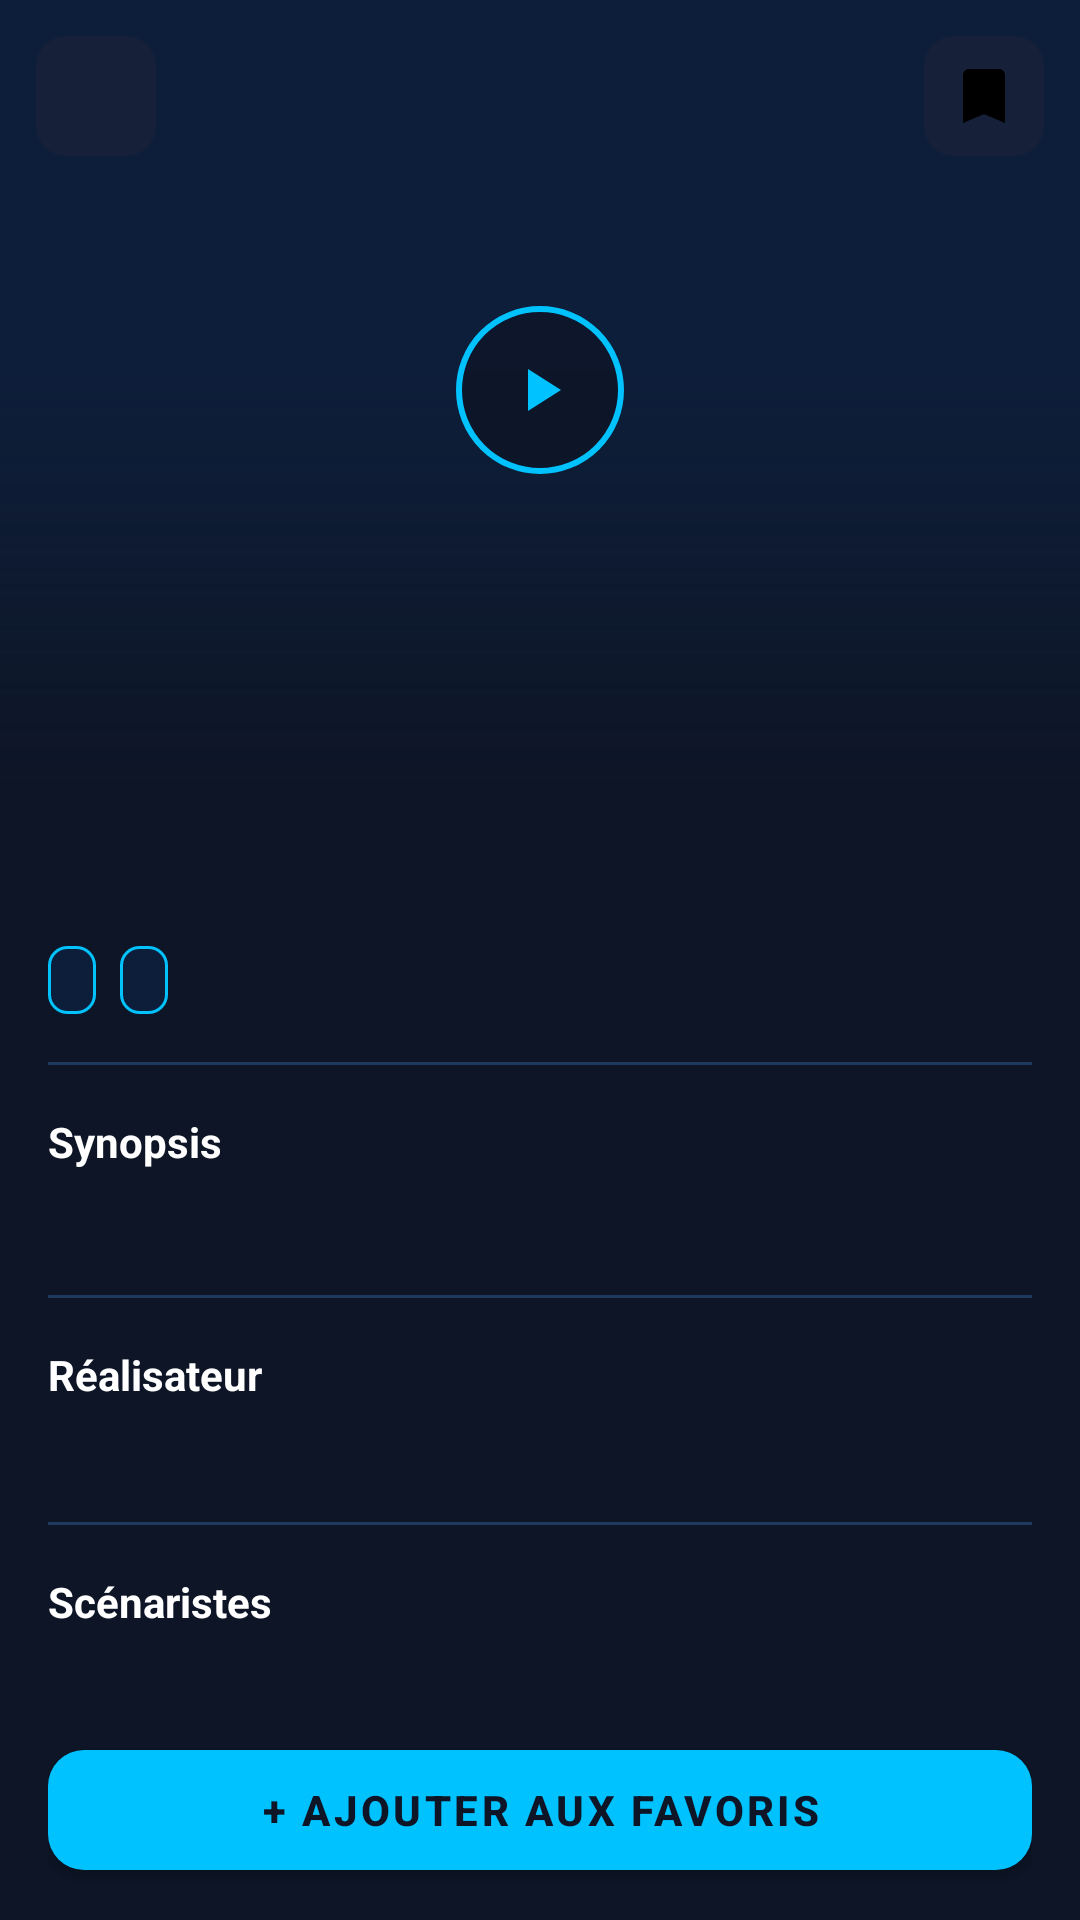

Icon bounding boxes for this 1080px×1920px phone screenshot, format (x1, y1, x2, y2):
Sauvegarder: (963, 69, 1005, 123)
Trailer: (456, 306, 624, 474)
